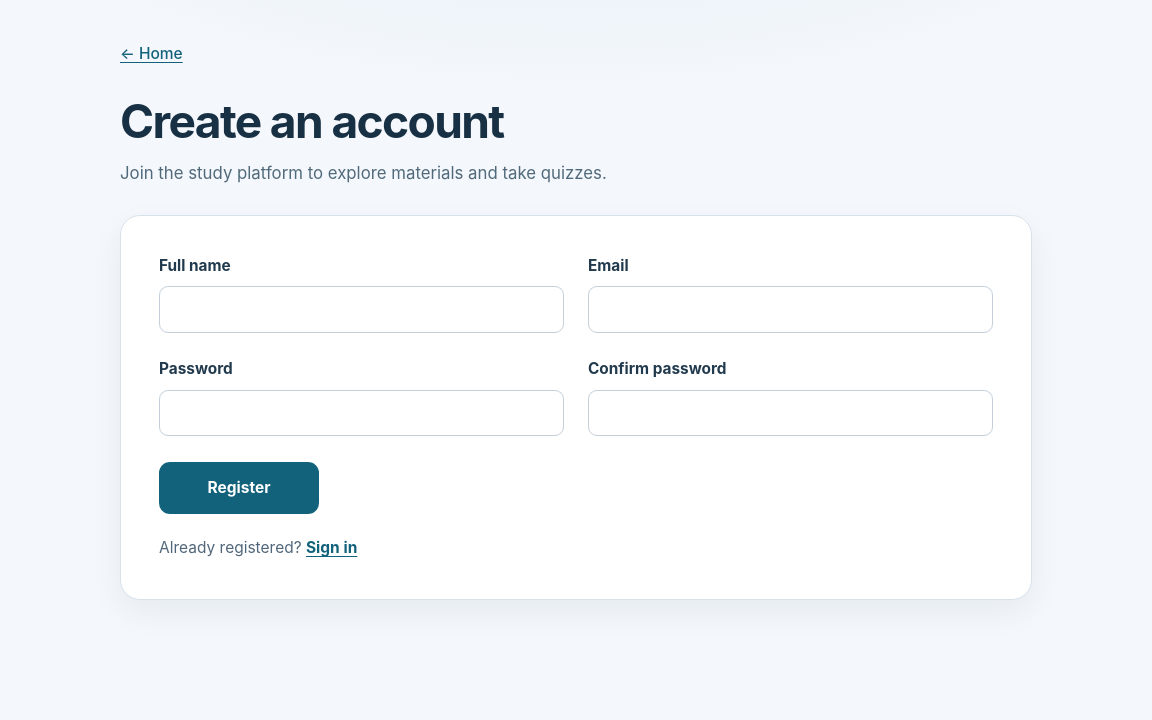
Test: displays duplicate email API error
Type "Riya Sharma" into the field labelled "Full name" at (362, 310), box [159,286,564,333]
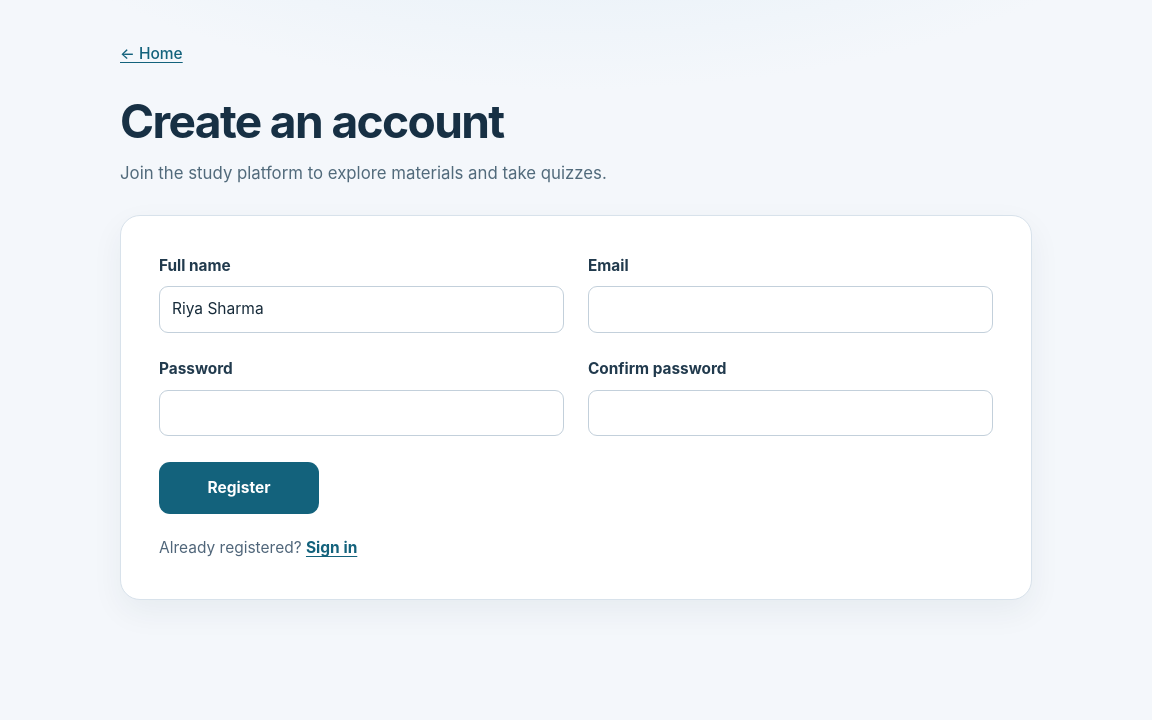
Type "riya@example.com" into the field labelled "Email" at (790, 310), box [588,286,993,333]
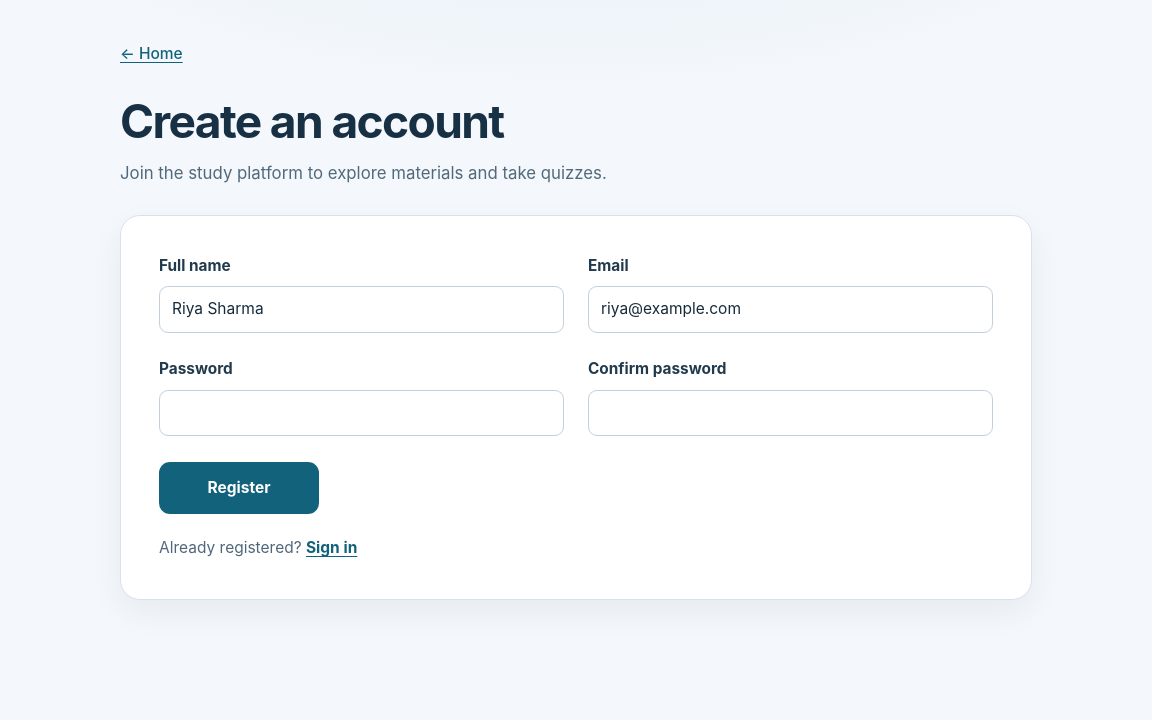
Type "Valid1234" into the password field labelled "Password" at (362, 413), box [159,390,564,436]
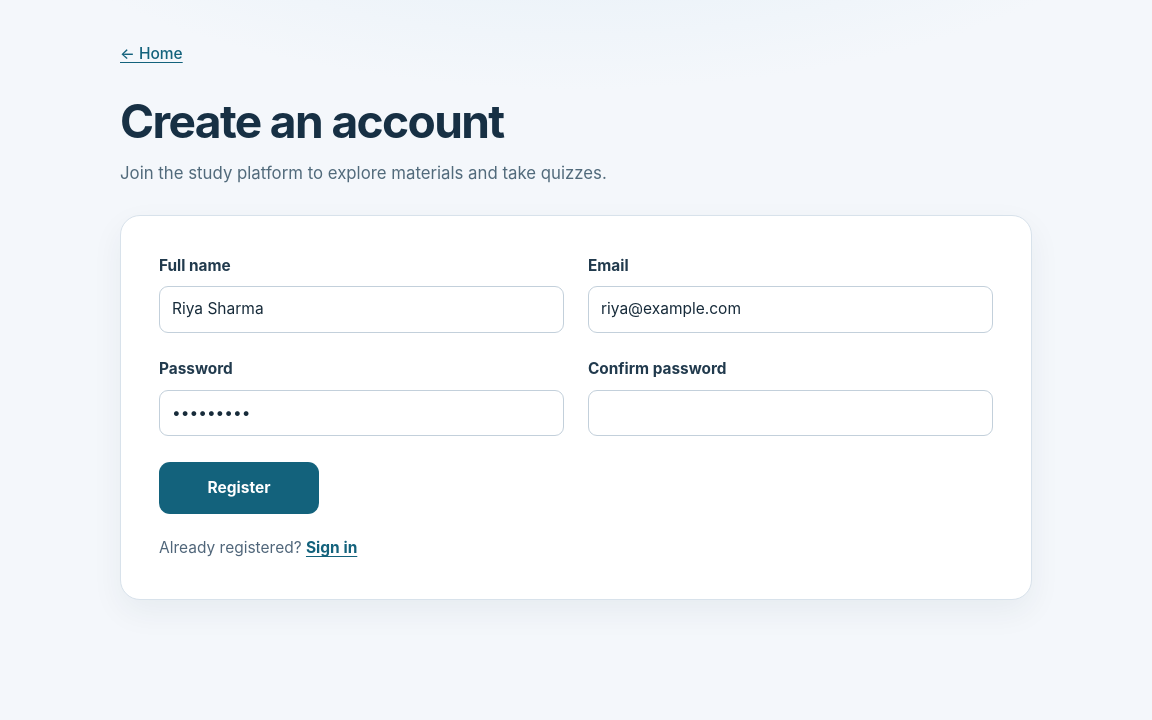
Type "Valid1234" into the password field labelled "Confirm password" at (790, 413), box [588,390,993,436]
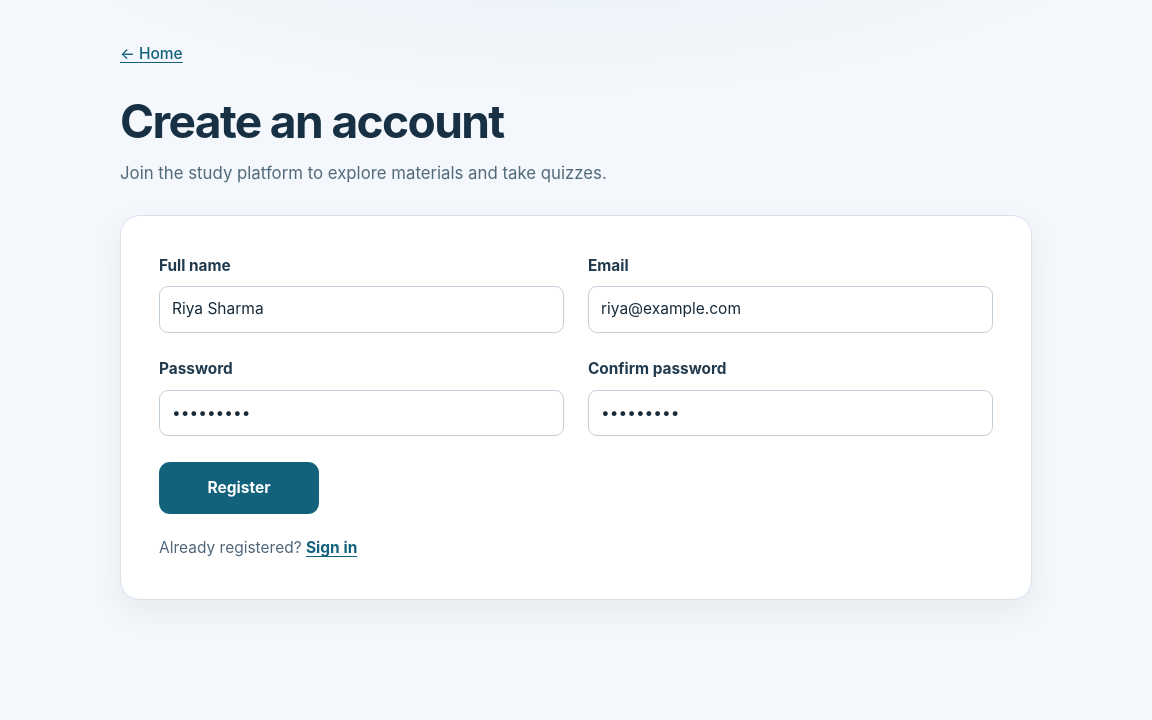
Click the button "Register" at (239, 488), box [159,462,319,514]
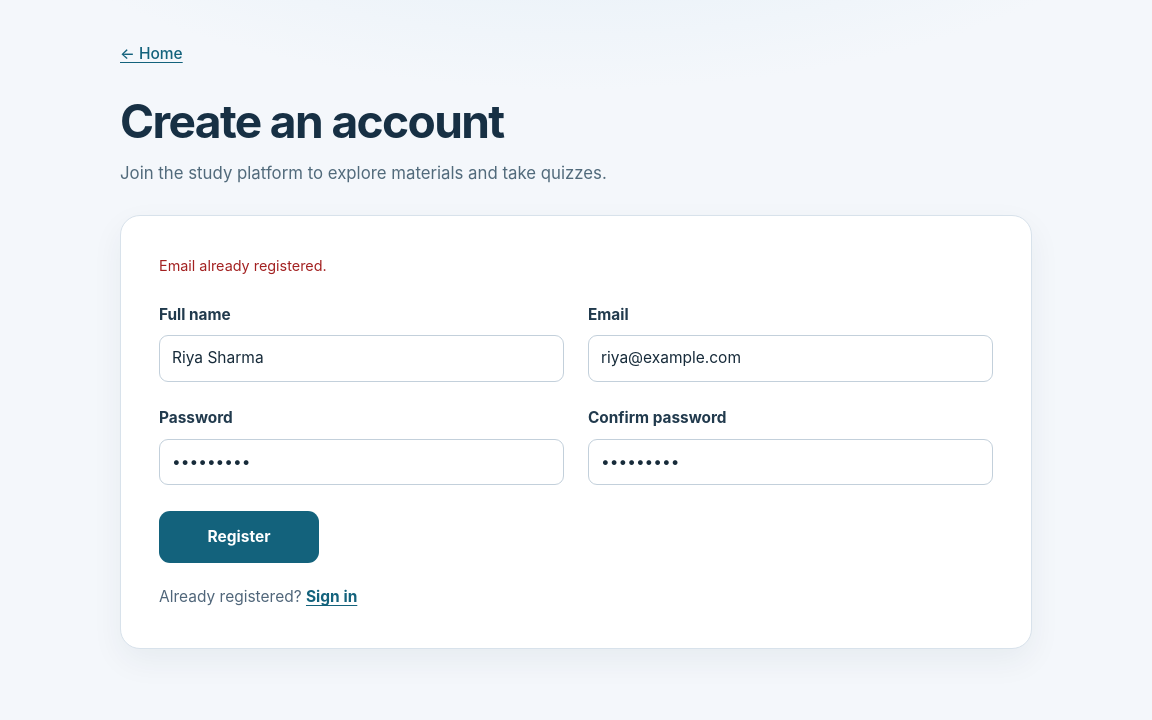
expect the message reads "Email already registered.": met, box [159,257,327,274]
